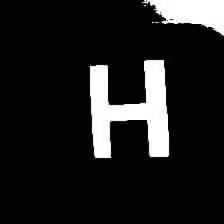LTR_H: (77, 50, 174, 165)
